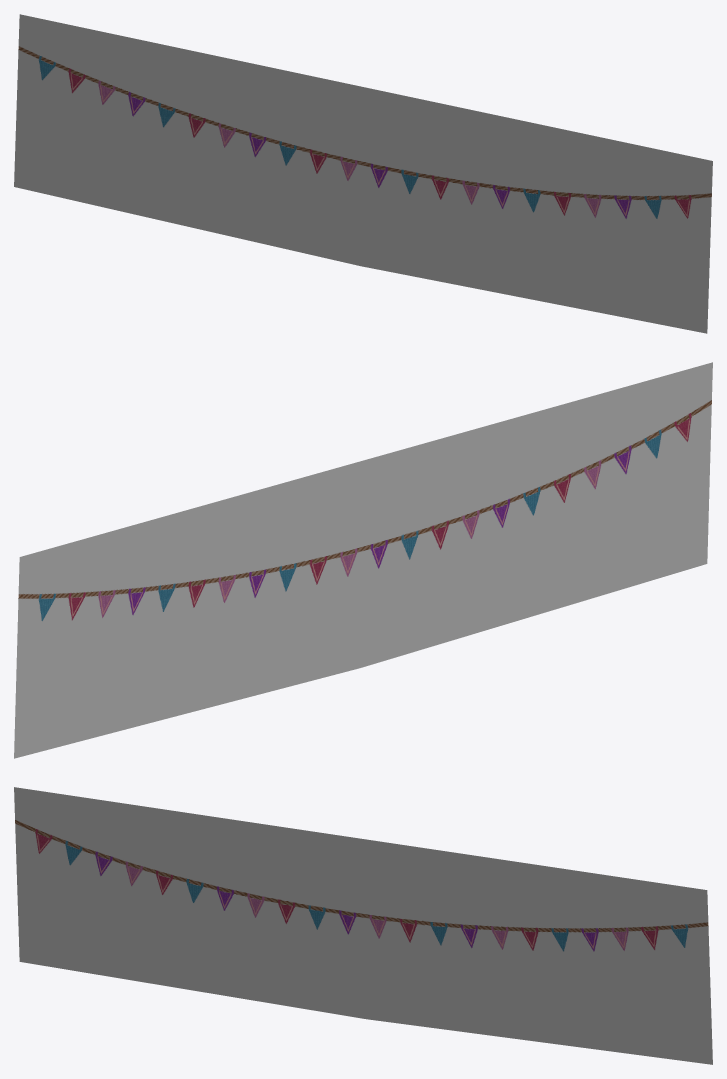
3 views of the same model, one above another, from view 1: azimuth 90°, elevation 25°; view 2: azimuth 150°, elevation 25°; view 3: azimuth 270°, elevation 25° (orthographic). The views are drawn at different scales.
Parts seen in each view (by area): view 1: SM_garland004; view 2: SM_garland004; view 3: SM_garland004.
Boxes of the visible parts, left/top/right/bottom form: SM_garland004: left=14, top=14, right=712, bottom=333; SM_garland004: left=14, top=362, right=712, bottom=758; SM_garland004: left=14, top=787, right=712, bottom=1064.
Bounding box in the file's own units: 314 × 227 × 735.
